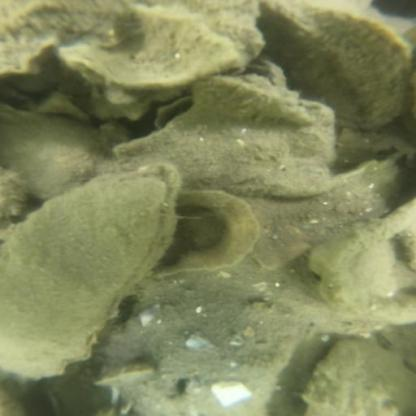3: (1, 165, 182, 373)
Oyster-Closed: (110, 77, 334, 197), (264, 3, 406, 129)
Oyster-Open: (7, 0, 131, 75), (5, 109, 98, 197), (303, 340, 408, 415)
